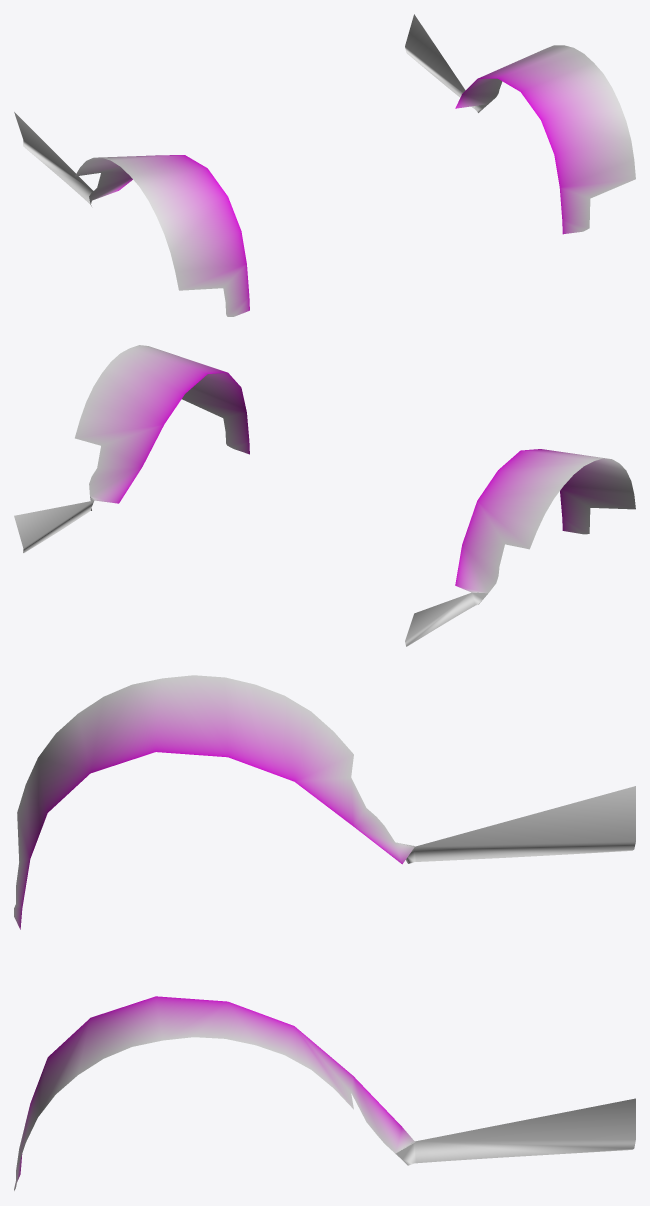
File: Car_Buick_GrandNational_1987_FendersChassisR_SetD.fbx
3 renders of one model, top to bottom at view 1: azimuth 30°, elevation 25°; view 2: azimuth 150°, elevation 25°; view 3: azimuth 270°, elevation 25°, orthographic. The views are drawn at different scales.
Visible parts, largest first — view 1: FendersChassisR 6; view 2: FendersChassisR 6; view 3: FendersChassisR 6.
Part boxes in pixels (x1,y1,x2,y2): FendersChassisR 6: [14, 14, 635, 316]; FendersChassisR 6: [14, 345, 635, 646]; FendersChassisR 6: [14, 675, 635, 1190].
Bounding box in the file's own units: 1.92 × 0.4865 × 1.39.
